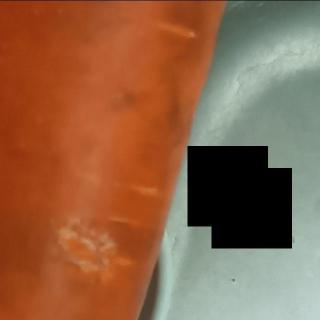carrot: (0, 0, 244, 320)
